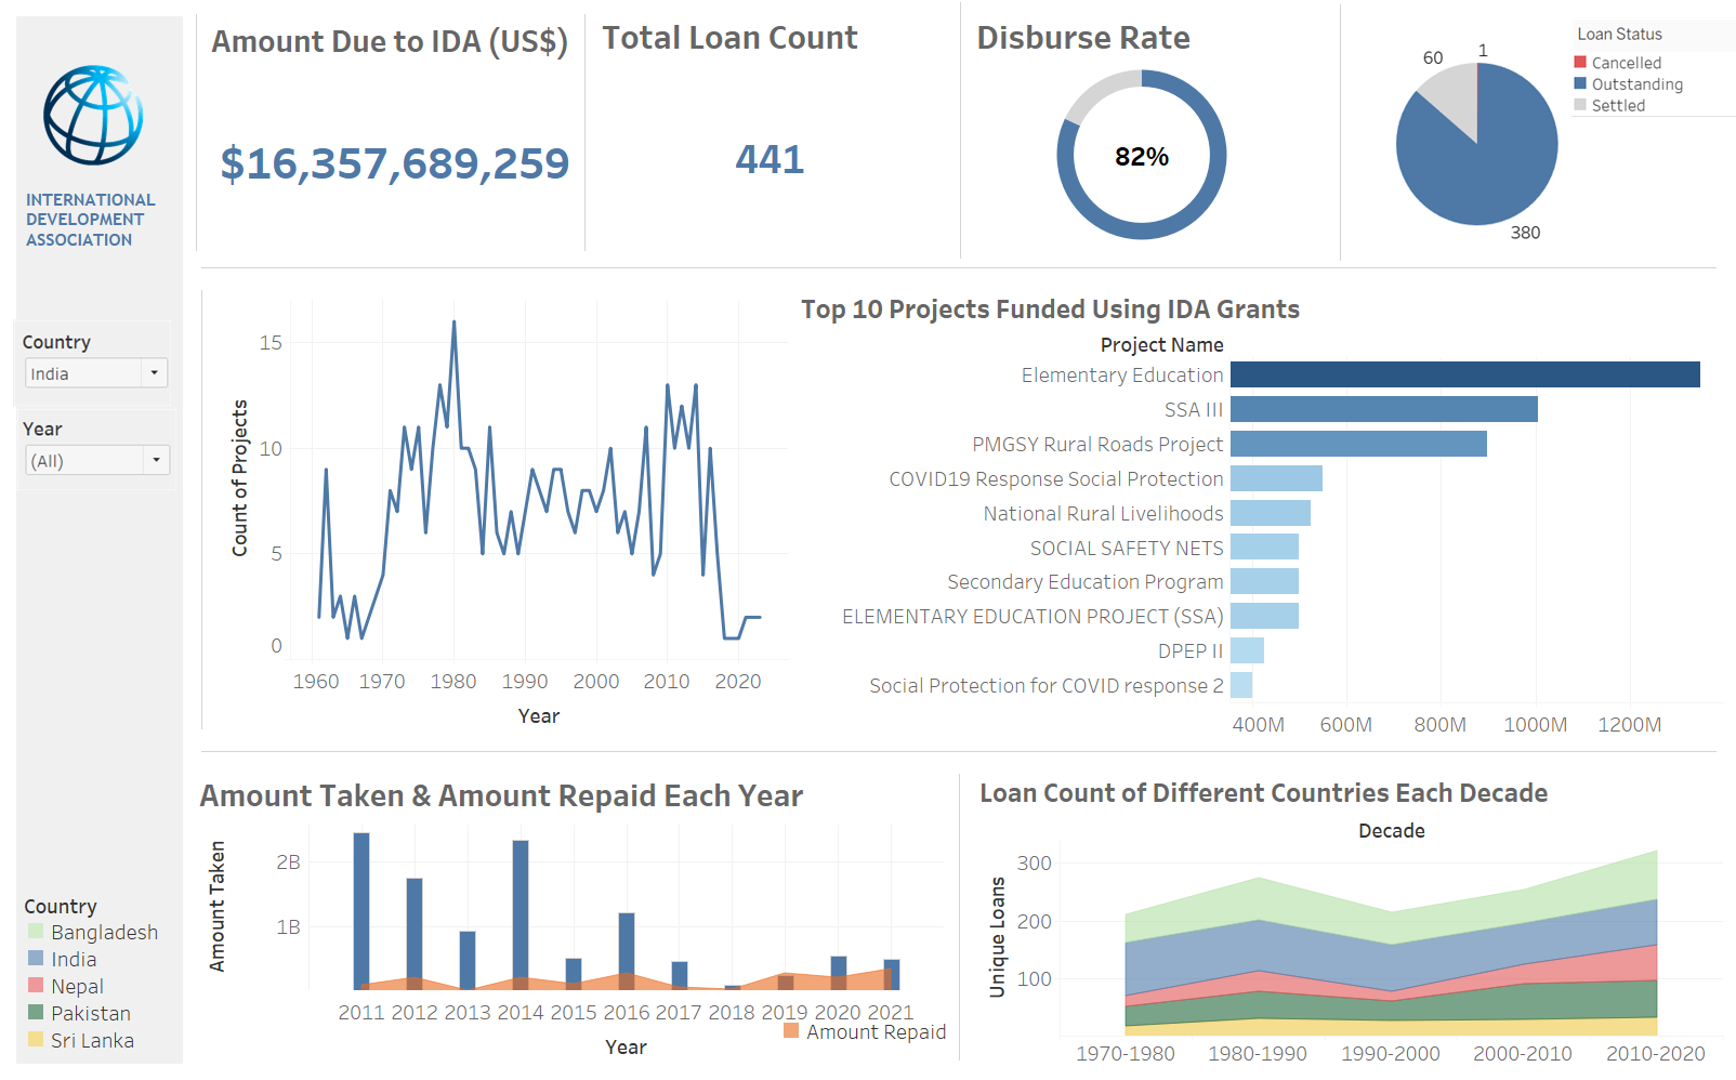

What the dashboard file says about the page in this screenshot:
{"tool":"tableau","page":{"name":"Final Dashboard","canvas":[1000,1000],"units":"permille","ordinal":2},"visuals":[{"type":"worksheet","title":"Sheet 9 (2)","mark":"Text","box":[344.1,6,203.9,229.5]},{"type":"worksheet","title":"Sheet 8","mark":"Pie","rows":["Calculation_340866231851118599","Calculation_340866231851139081"],"box":[559.9,6,195.8,218.4]},{"type":"blank","box":[109.7,8,6.9,229.5]},{"type":"worksheet","title":"Sheet 9","mark":"Text","box":[116.6,8,217,229.5]},{"type":"blank","box":[333.5,8,6.9,229.5]},{"type":"blank","box":[340.4,8,446.4,229.5]},{"type":"blank","box":[9.3,15,96,969.9]},{"type":"image","param":"C:/Users/Raghav/Desktop/SQL Project/Screenshot 2024-07-06 005126.png","box":[784.9,26.1,148.4,215.4]},{"type":"image","param":"C:/Users/Raghav/Desktop/SQL Project/world-bank-logo.png","box":[24.9,41.1,82.3,131.3]},{"type":"text","box":[12.5,149.3,91,108.2]},{"type":"blank","box":[109.7,237.5,885.3,21]},{"type":"blank","box":[109.7,258.5,13.1,426.8]},{"type":"worksheet","title":"Sheet 1","mark":"Automatic","rows":["Project ID"],"cols":["Calculation_2137239530732138496"],"box":[122.8,258.5,333.5,426.8]},{"type":"worksheet","title":"Sheet 4","mark":"Bar","rows":["project_name"],"cols":["total_funding"],"box":[456.4,258.5,538.6,426.8]},{"type":"blank","box":[109.7,685.3,885.3,21]},{"type":"worksheet","title":"Sheet 6","mark":"Area","rows":["TotalAmountTaken","TotalAmountRepaid"],"cols":["Year"],"box":[109.7,706.4,436.4,285.6]},{"type":"blank","box":[546.1,706.4,13.1,285.6]},{"type":"worksheet","title":"Sheet 7","mark":"Area","rows":["Unique_Loans"],"cols":["Decade"],"box":[559.2,706.4,435.8,285.6]},{"type":"legend","title":"Sheet 7","param":"[federated.1ejr5dm1ookoyp1dqpbzz0eq75xr].[none:Country:nk]","box":[13.1,823.6,87.3,151.3]},{"type":"legend","title":"Sheet 6","param":"[federated.1trfai807ghvhp11i8mck13o0jlm].[:Measure Names]","box":[448.2,941.9,100.4,51.1]}]}

Visuals, with their boxes on the dashboard's canvas, which has no fixed pixel size, in thousandths of its width and height (x1, y1, x2, y2). These are canvas units, not pixel positions in the 1736x1080 screenshot, which may show the page scaled, cropped or inside an application window:
"Sheet 9 (2)" worksheet (Text marks): detection(344, 6, 548, 236)
"Sheet 8" worksheet (Pie marks): detection(560, 6, 756, 224)
blank: detection(110, 8, 117, 238)
"Sheet 9" worksheet (Text marks): detection(117, 8, 334, 238)
blank: detection(334, 8, 340, 238)
blank: detection(340, 8, 787, 238)
blank: detection(9, 15, 105, 985)
image: detection(785, 26, 933, 242)
image: detection(25, 41, 107, 172)
text: detection(12, 149, 104, 258)
blank: detection(110, 238, 995, 258)
blank: detection(110, 258, 123, 685)
"Sheet 1" worksheet: detection(123, 258, 456, 685)
"Sheet 4" worksheet (Bar marks): detection(456, 258, 995, 685)
blank: detection(110, 685, 995, 706)
"Sheet 6" worksheet (Area marks): detection(110, 706, 546, 992)
blank: detection(546, 706, 559, 992)
"Sheet 7" worksheet (Area marks): detection(559, 706, 995, 992)
"Sheet 7" legend: detection(13, 824, 100, 975)
"Sheet 6" legend: detection(448, 942, 549, 993)
